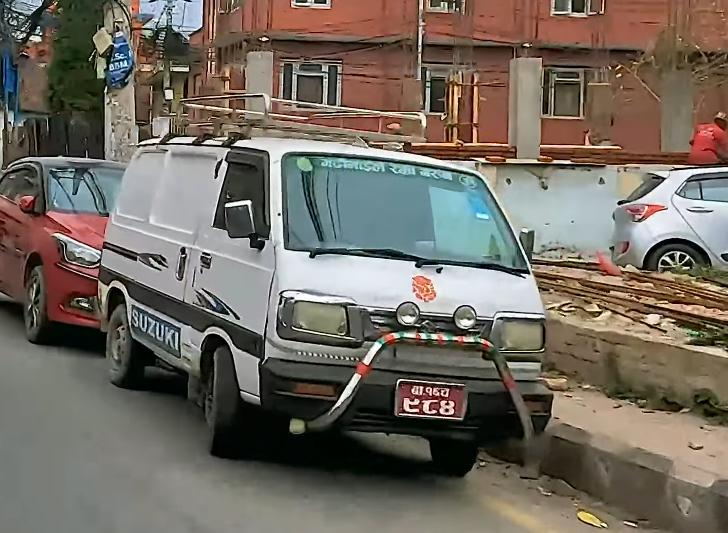car: (0, 150, 129, 350), (606, 160, 728, 280)
van: (102, 122, 558, 493)
